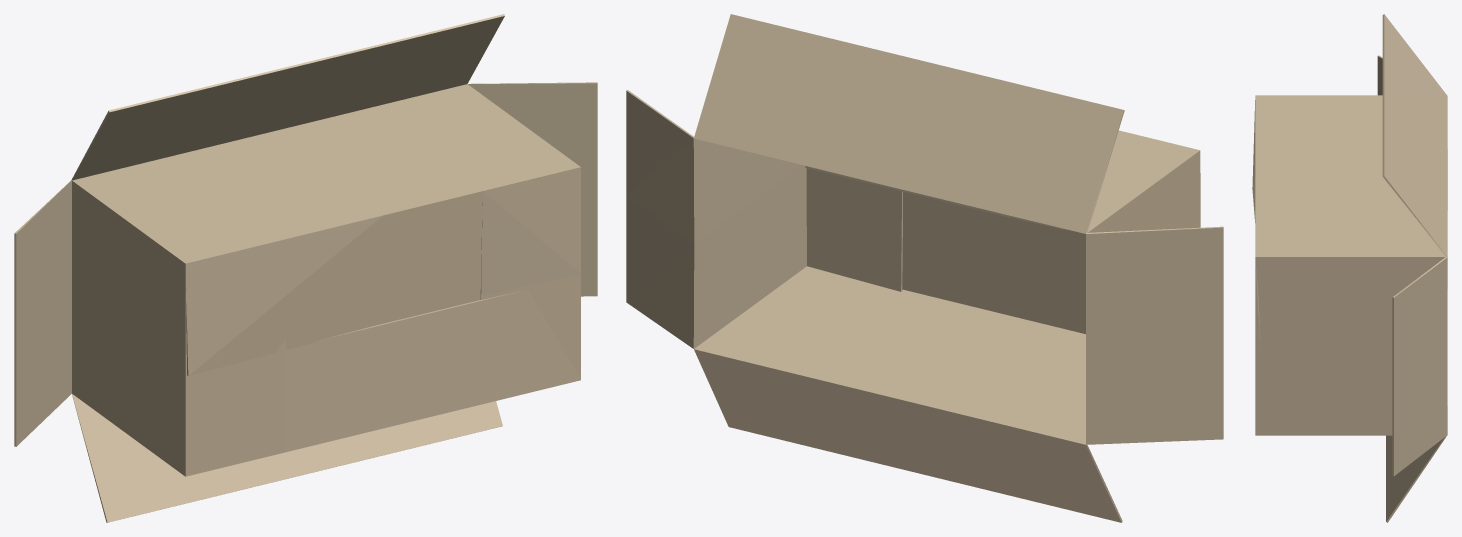
3 renders of one model, left to right at view 1: azimuth 30°, elevation 25°; view 2: azimuth 150°, elevation 25°; view 3: azimuth 270°, elevation 25°, orthographic. The views are drawn at different scales.
Parts seen in each view (by area): view 1: imagetostl_mesh; view 2: imagetostl_mesh; view 3: imagetostl_mesh.
Boxes of the visible parts, x1,y1,x2,y2 form: imagetostl_mesh: (14,14,597,522); imagetostl_mesh: (626,14,1223,522); imagetostl_mesh: (1252,14,1447,522).
Size of the model in its own units: 602 by 402 by 205.
